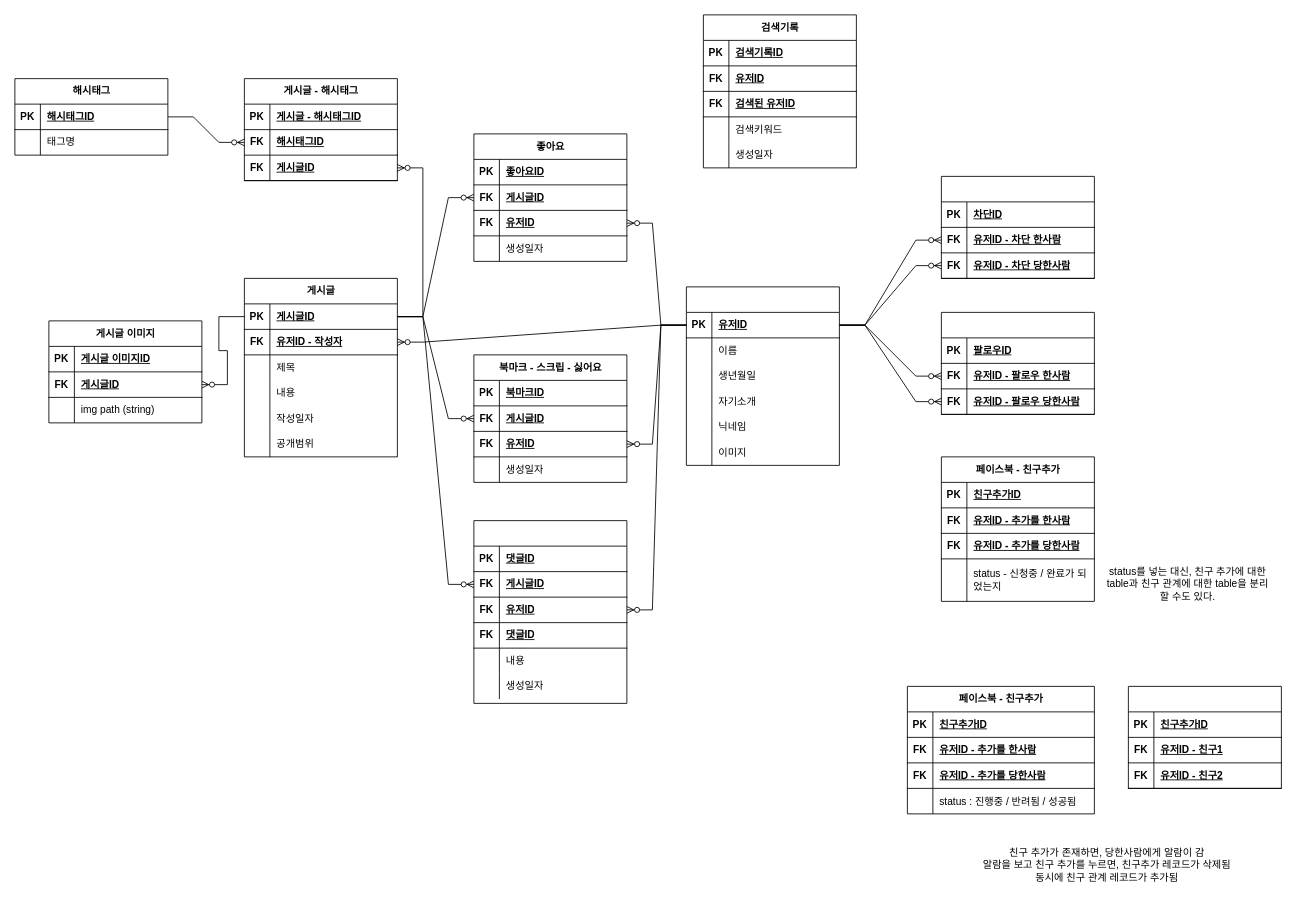
The diagram is 1296 pixels wide and 922 high, and some of its shapes have lost their labels. The box of each missing label's shape, as (x1, y1, x2, y2) in pixels:
댓글: (473, 520, 627, 703)
유저: (686, 286, 839, 465)
인스타 - 팔로우: (941, 312, 1094, 414)
차단: (941, 176, 1094, 278)
페이스북 - 친구관계: (1128, 686, 1281, 788)
